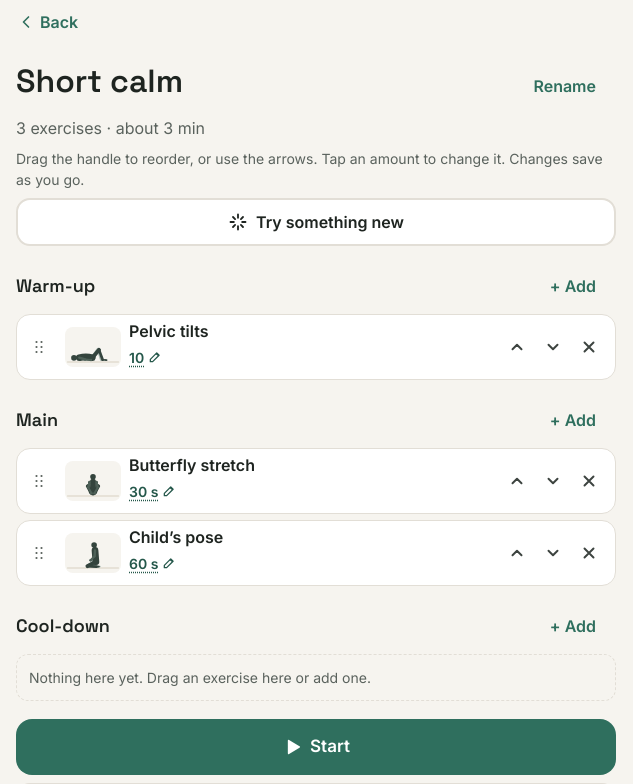
SetView: Try something new (012) › Undo restores the set and the card
The width and height of the screenshot is (633, 784).
Click the button "Try something new". click: [316, 222]
box: 16,198 -> 616,246
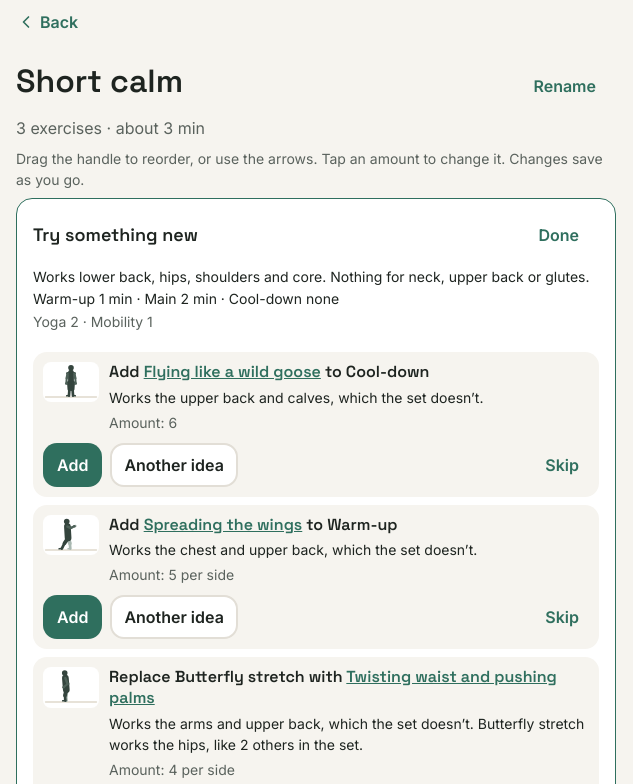
Click the button "Add" below "Flying like a wild goose". click: [73, 465]
box: 43,443 -> 102,487
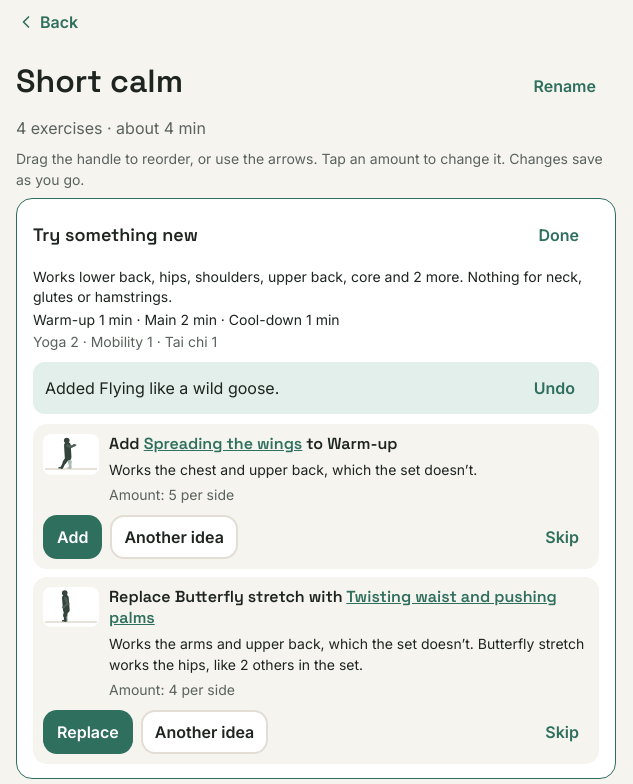
expect the text "Added Flying like a wild goose." is shown: met, box 45,376 -> 279,400
Click the button "Undo". click: [554, 388]
box: 514,366 -> 595,410
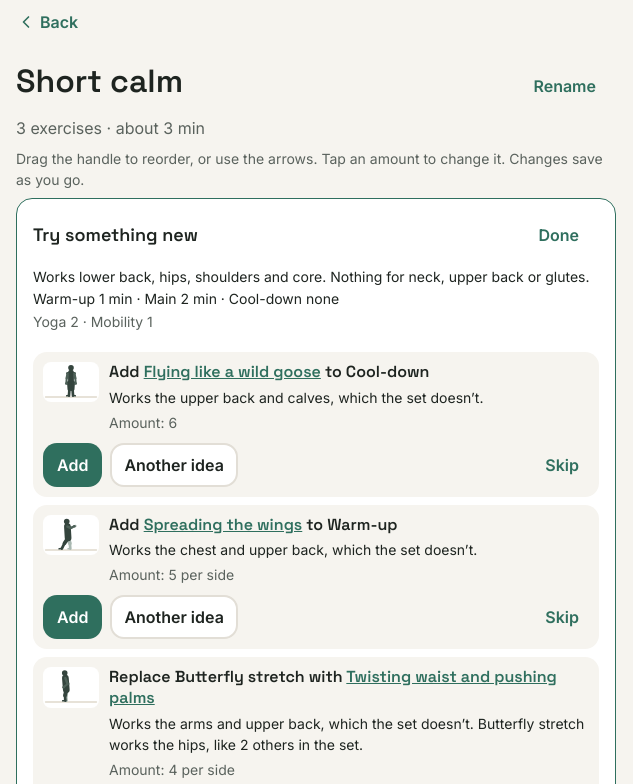
expect the button "Undo" is gone: met
